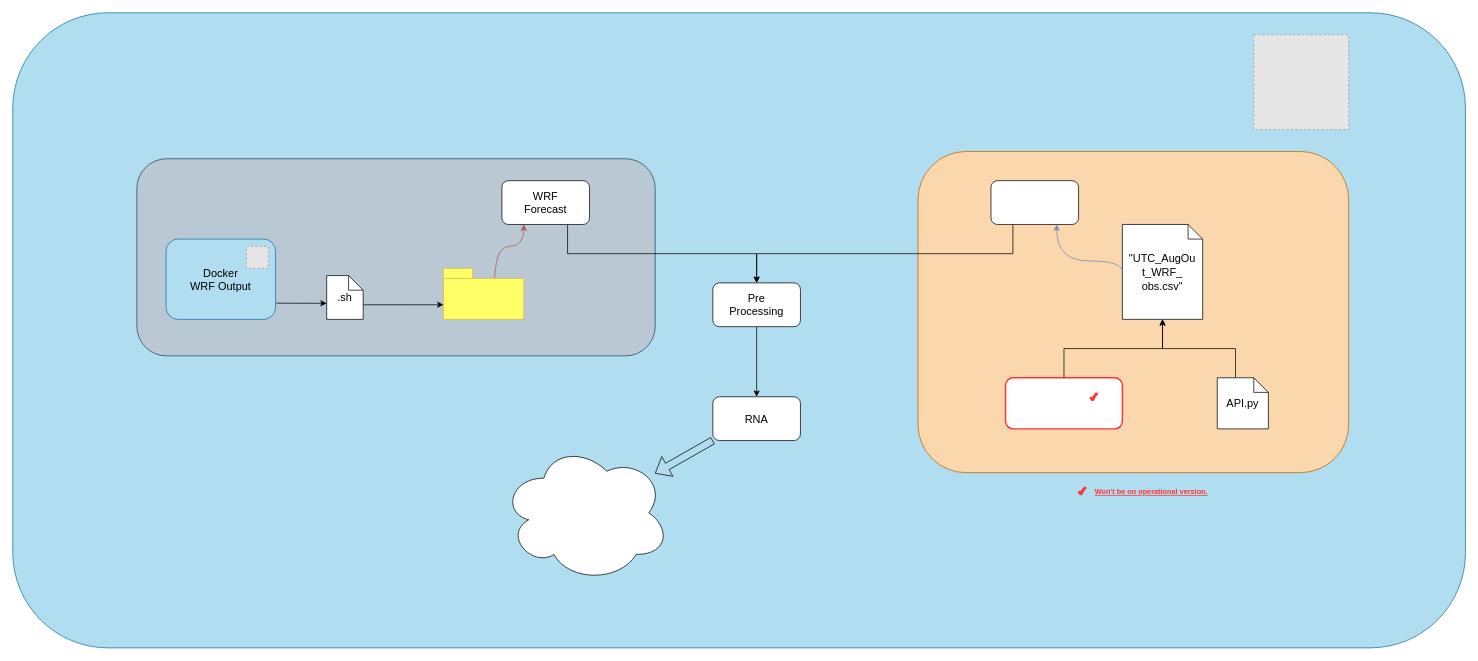
Some shapes in this 1478 by 661 pixel diagram are drawn without their labels. Grey dashed boxes stand in for pictures. Each missing label, with the box of its shape:
"extrai_rn.zip": (443, 268, 524, 319)
Historical Provided Data: (1004, 377, 1123, 429)
New accurated forecast: (501, 443, 670, 582)
Observed Data: (990, 180, 1079, 224)
